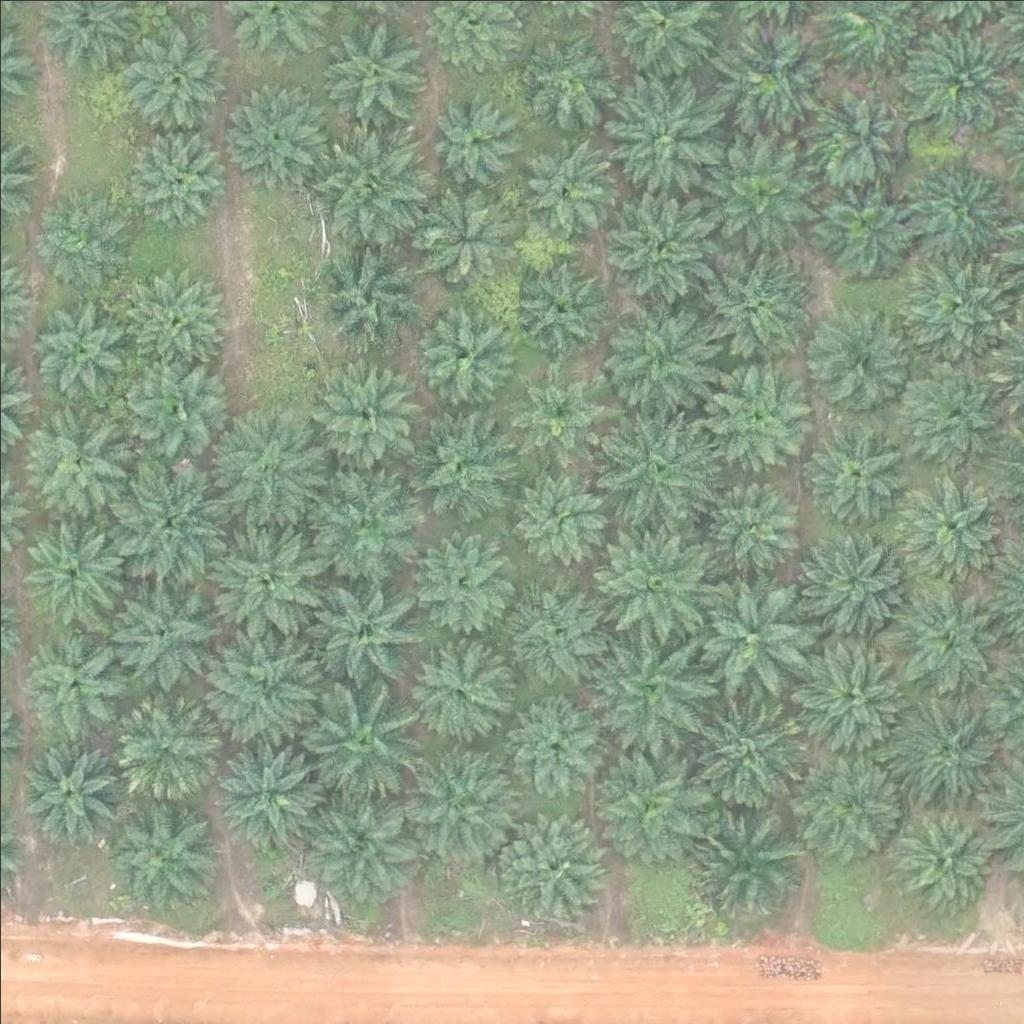Kelapa_Sawit: (219, 78, 332, 192), (106, 800, 219, 914), (208, 736, 321, 850), (208, 527, 321, 641), (309, 467, 422, 581), (592, 526, 705, 640), (695, 582, 808, 696), (887, 577, 1000, 691), (23, 410, 136, 523), (114, 473, 227, 586), (110, 687, 223, 800), (212, 623, 325, 736), (215, 409, 328, 522), (302, 686, 415, 799), (404, 412, 517, 525), (312, 116, 425, 229), (495, 805, 608, 918), (597, 744, 710, 857), (612, 68, 725, 181), (705, 136, 818, 249), (698, 252, 811, 365), (706, 363, 819, 476), (794, 748, 907, 861), (793, 644, 906, 757), (800, 412, 913, 525), (805, 304, 918, 417), (808, 170, 921, 283), (907, 246, 1020, 359), (896, 689, 1009, 802), (22, 620, 134, 734), (108, 576, 220, 690), (399, 747, 511, 861), (598, 297, 710, 411), (890, 469, 1002, 583), (303, 348, 415, 461), (309, 573, 421, 686), (305, 785, 417, 898), (315, 245, 427, 358), (505, 577, 617, 690), (595, 629, 707, 742), (599, 409, 711, 522), (602, 192, 714, 305), (716, 11, 828, 124), (686, 808, 798, 921), (693, 697, 805, 810), (800, 519, 912, 632), (896, 26, 1008, 139), (897, 358, 1009, 471), (21, 737, 121, 838), (23, 517, 123, 618), (31, 188, 131, 289), (121, 123, 221, 224), (124, 30, 224, 131), (126, 360, 226, 461), (409, 644, 509, 745), (409, 298, 509, 399), (413, 187, 513, 288), (506, 263, 606, 364), (512, 471, 612, 572), (507, 703, 607, 804), (805, 85, 905, 186), (906, 149, 1006, 250), (899, 807, 999, 908), (30, 298, 130, 398), (122, 270, 222, 370), (410, 534, 510, 634), (321, 16, 421, 116), (513, 140, 613, 240), (507, 365, 607, 465), (703, 476, 803, 576), (527, 38, 615, 126), (432, 94, 519, 182)
